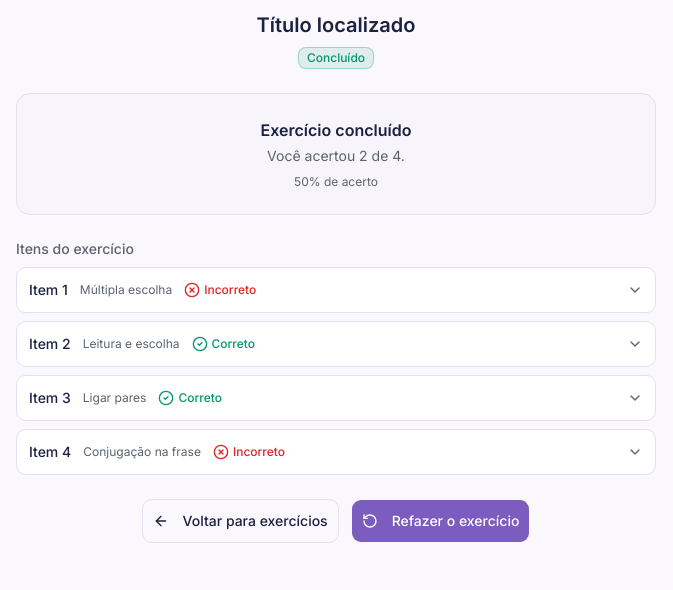
Scenario: ExerciseSummaryClient › mantém o Refazer visível e anuncia falha recuperável
Click the button "Refazer o exercício": (441, 521) [351,499,530,543]
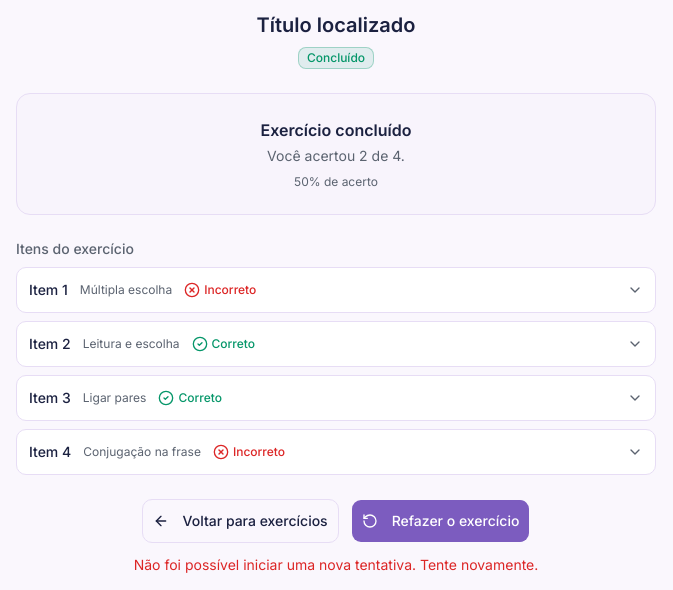
expect the message "Não foi possível iniciar uma nova tentativa. Tente novamente." is shown: met, box [134,556,538,573]
